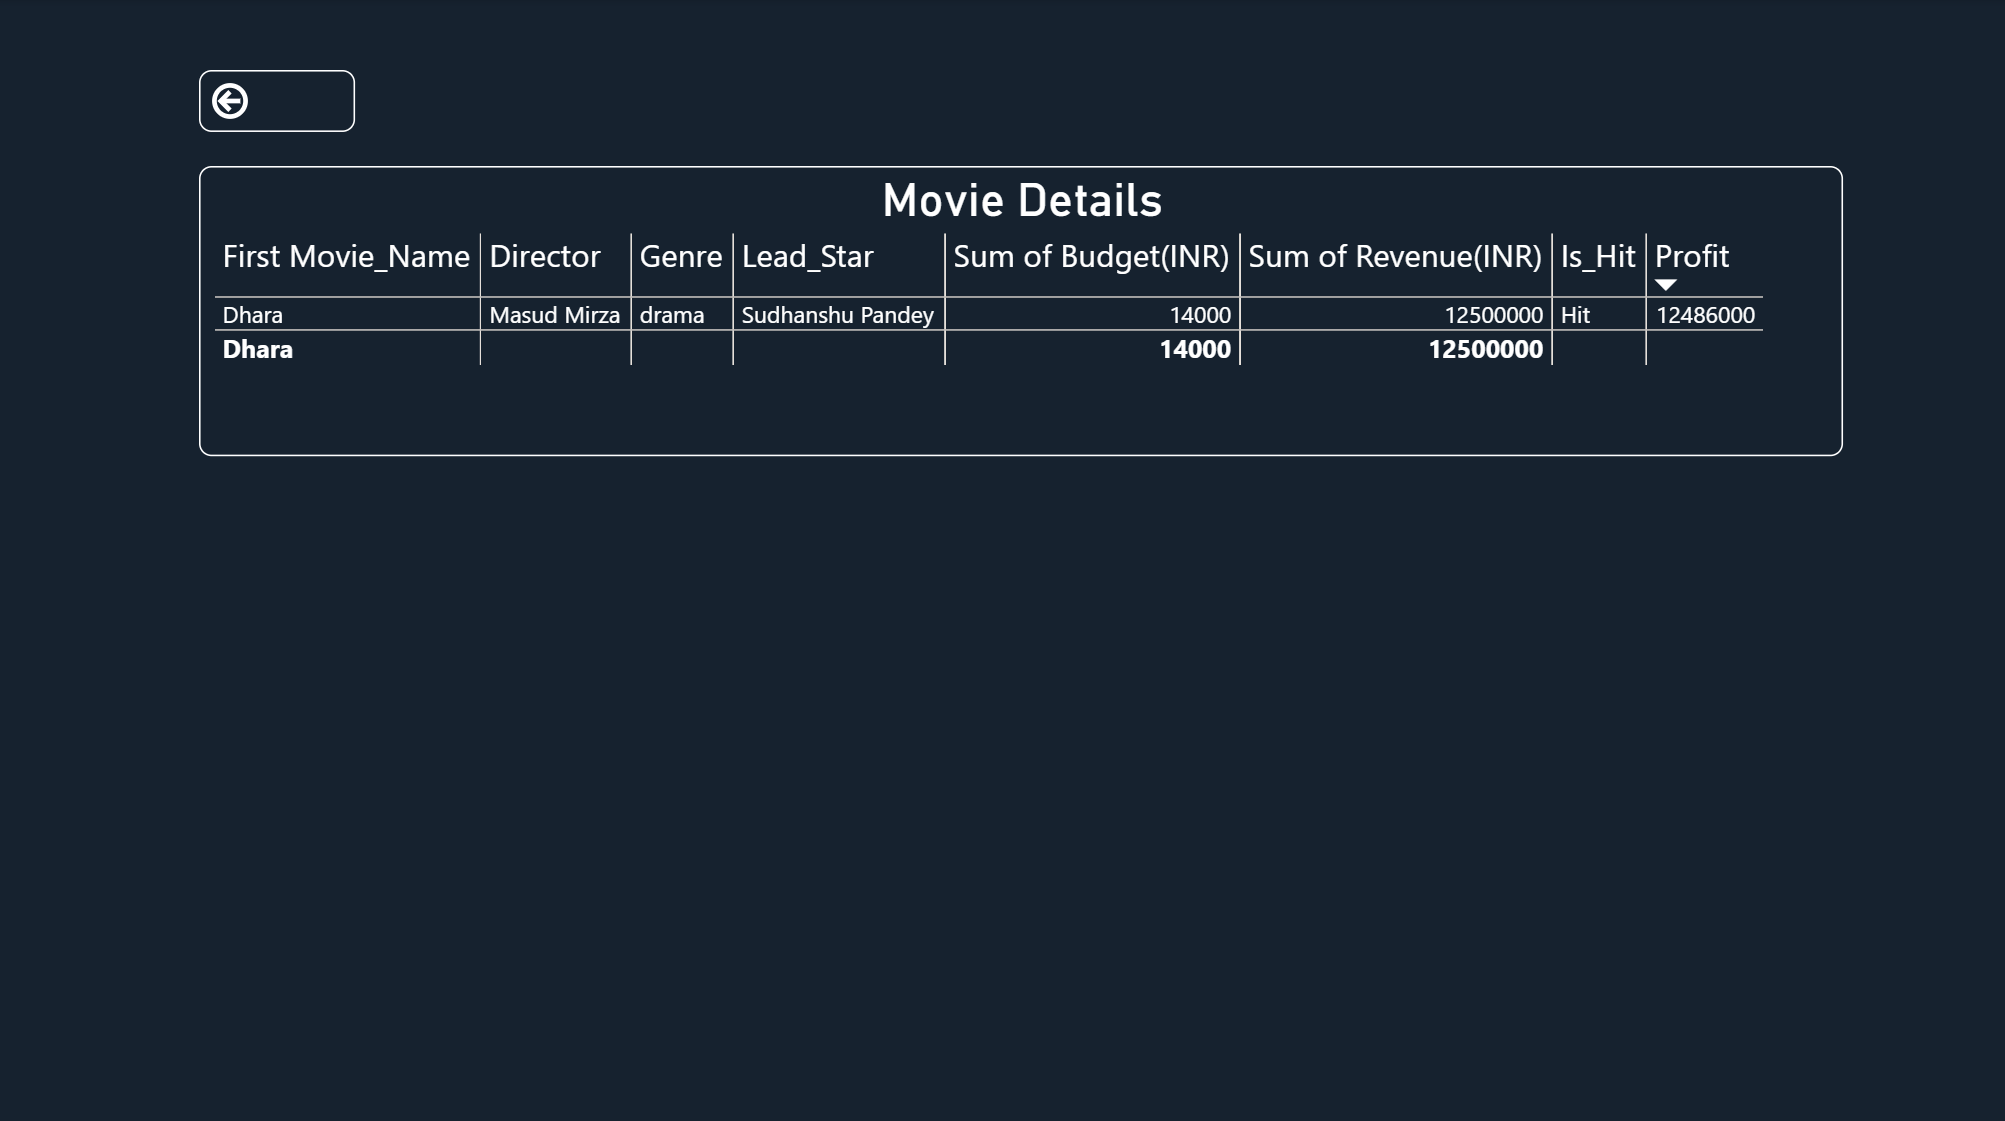

The dashboard page shown, as its layout file describes it:
{"tool":"powerbi","page":{"name":"Movie Details","canvas":[1280,720],"ordinal":2},"visuals":[{"type":"actionButton","box":[127.5,45.9,99.4,39.5],"z":0},{"type":"tableEx","title":"Movie Details ","fields":{"Values":["Data for repository.Movie_Name","Data for repository.Director","Data for repository.Genre","Data for repository.Lead_Star","Data for repository.Budget(INR)","Data for repository.Revenue(INR)","Data for repository.Is_Hit","Data for repository.Profit"]},"box":[127.5,107.1,1048,184.9],"z":1000}]}

Visuals, with their boxes in screenshot pixels (x1, y1, x2, y2), scaled from the page's 1280x720 canvas onto the 2005x1121 screenshot:
actionButton: l=200, t=71, r=355, b=133
"Movie Details " tableEx: l=200, t=167, r=1841, b=455
